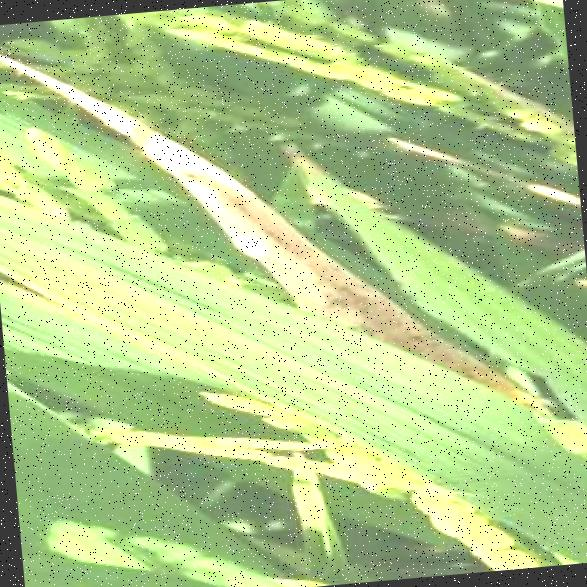Bacteria_Leaf_Blight: (0, 235, 179, 371)
